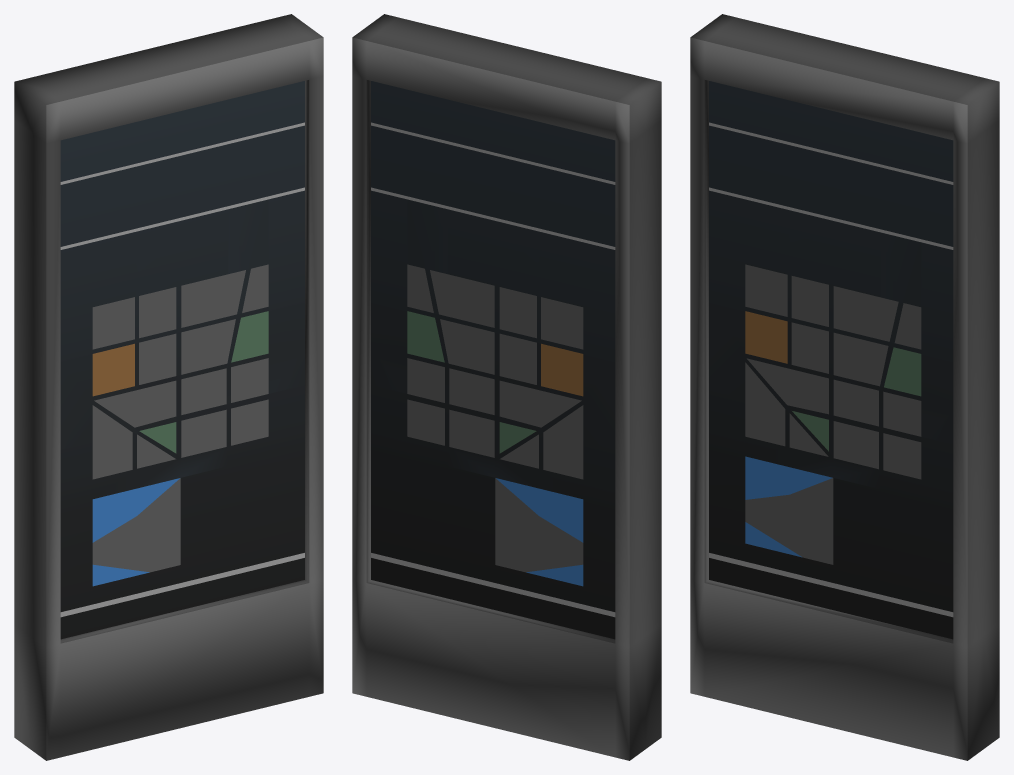
Rendered from furnishings-signs-moderninformationsign_v1.glb.
3 views of the same model, side by side, from view 1: azimuth 30°, elevation 25°; view 2: azimuth 150°, elevation 25°; view 3: azimuth 330°, elevation 25° (orthographic).
Visible parts, largest first — view 1: ModernInformationSign.001; view 2: ModernInformationSign.001; view 3: ModernInformationSign.001.
Boxes of the visible parts, x1=… form: ModernInformationSign.001: x1=14, y1=14, x2=323, y2=760; ModernInformationSign.001: x1=352, y1=14, x2=661, y2=760; ModernInformationSign.001: x1=690, y1=14, x2=999, y2=760.
Bounding box in the file's own units: 1.43 × 3.23 × 0.286.
